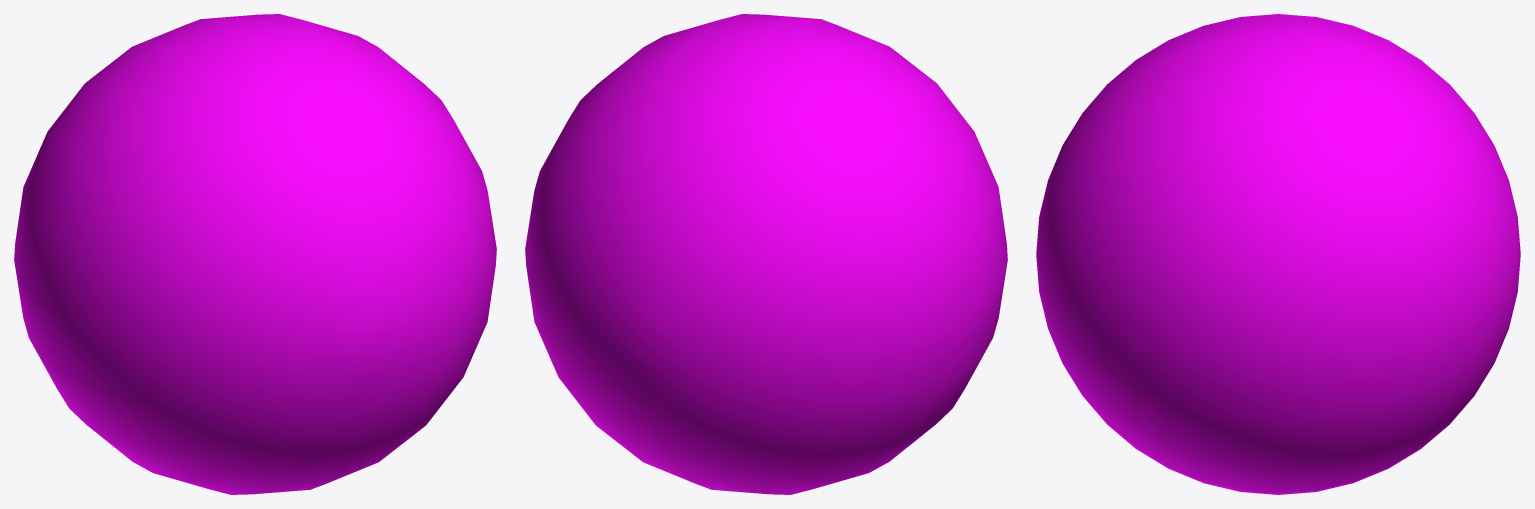
Rendered from Core.fbx.
3 renders of one model, left to right at view 1: azimuth 30°, elevation 25°; view 2: azimuth 150°, elevation 25°; view 3: azimuth 270°, elevation 25°, orthographic.
Parts seen in each view (by area): view 1: C_Jaw_core_02_GEO; view 2: C_Jaw_core_02_GEO; view 3: C_Jaw_core_02_GEO.
Boxes of the visible parts, x1=… form: C_Jaw_core_02_GEO: x1=14, y1=14, x2=496, y2=494; C_Jaw_core_02_GEO: x1=525, y1=14, x2=1007, y2=494; C_Jaw_core_02_GEO: x1=1036, y1=14, x2=1520, y2=494.
Size of the model in its own units: 1495 by 1495 by 1495.
